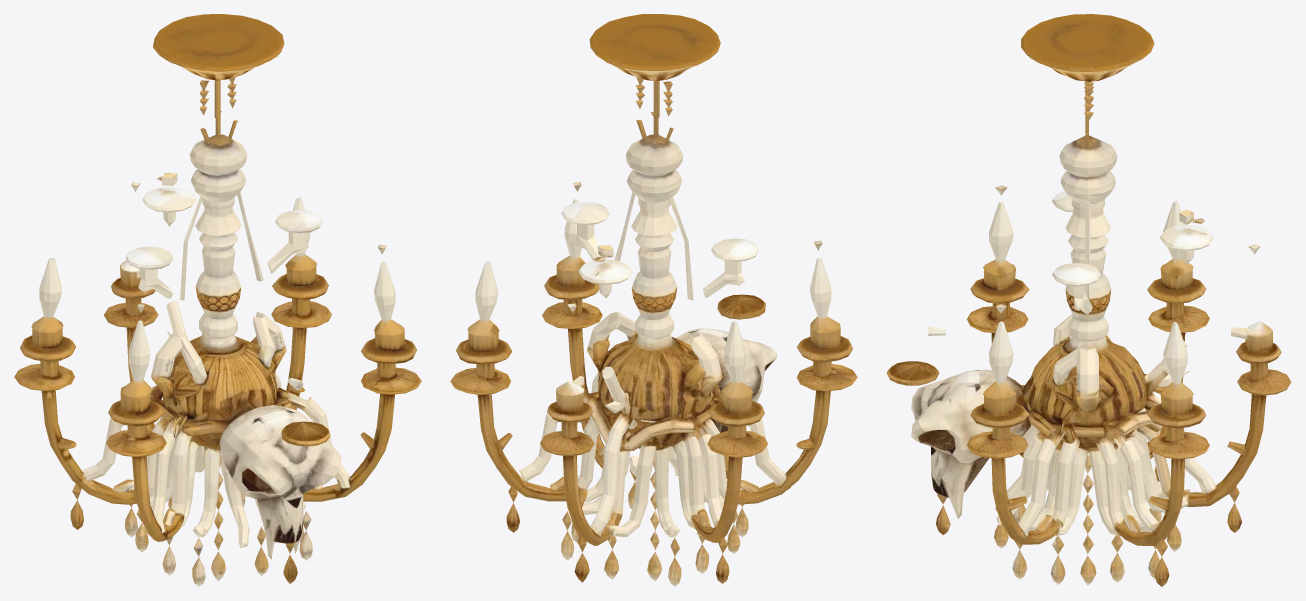
File: chandelier_skull.glb
The picture shows the model from 3 angles, left to right: view 1: azimuth 30°, elevation 25°; view 2: azimuth 150°, elevation 25°; view 3: azimuth 270°, elevation 25°; orthographic projection.
Parts seen in each view (by area): view 1: mesh_node; view 2: mesh_node; view 3: mesh_node.
Part boxes in pixels (left/top/right/bottom): mesh_node: left=14, top=14, right=421, bottom=586; mesh_node: left=450, top=14, right=857, bottom=586; mesh_node: left=886, top=14, right=1291, bottom=586.
Size of the model in its own units: 1.14 by 1.91 by 1.28.
Materials: 1 (1 with a texture image).
